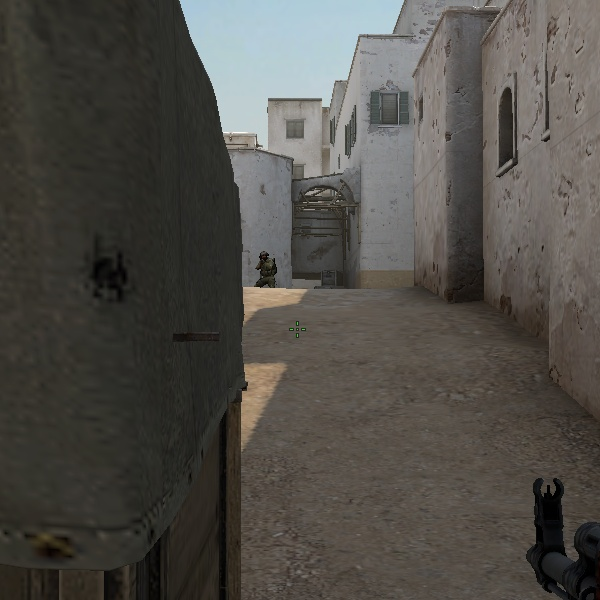ct_body: (255, 251, 278, 287)
ct_head: (259, 251, 269, 261)
